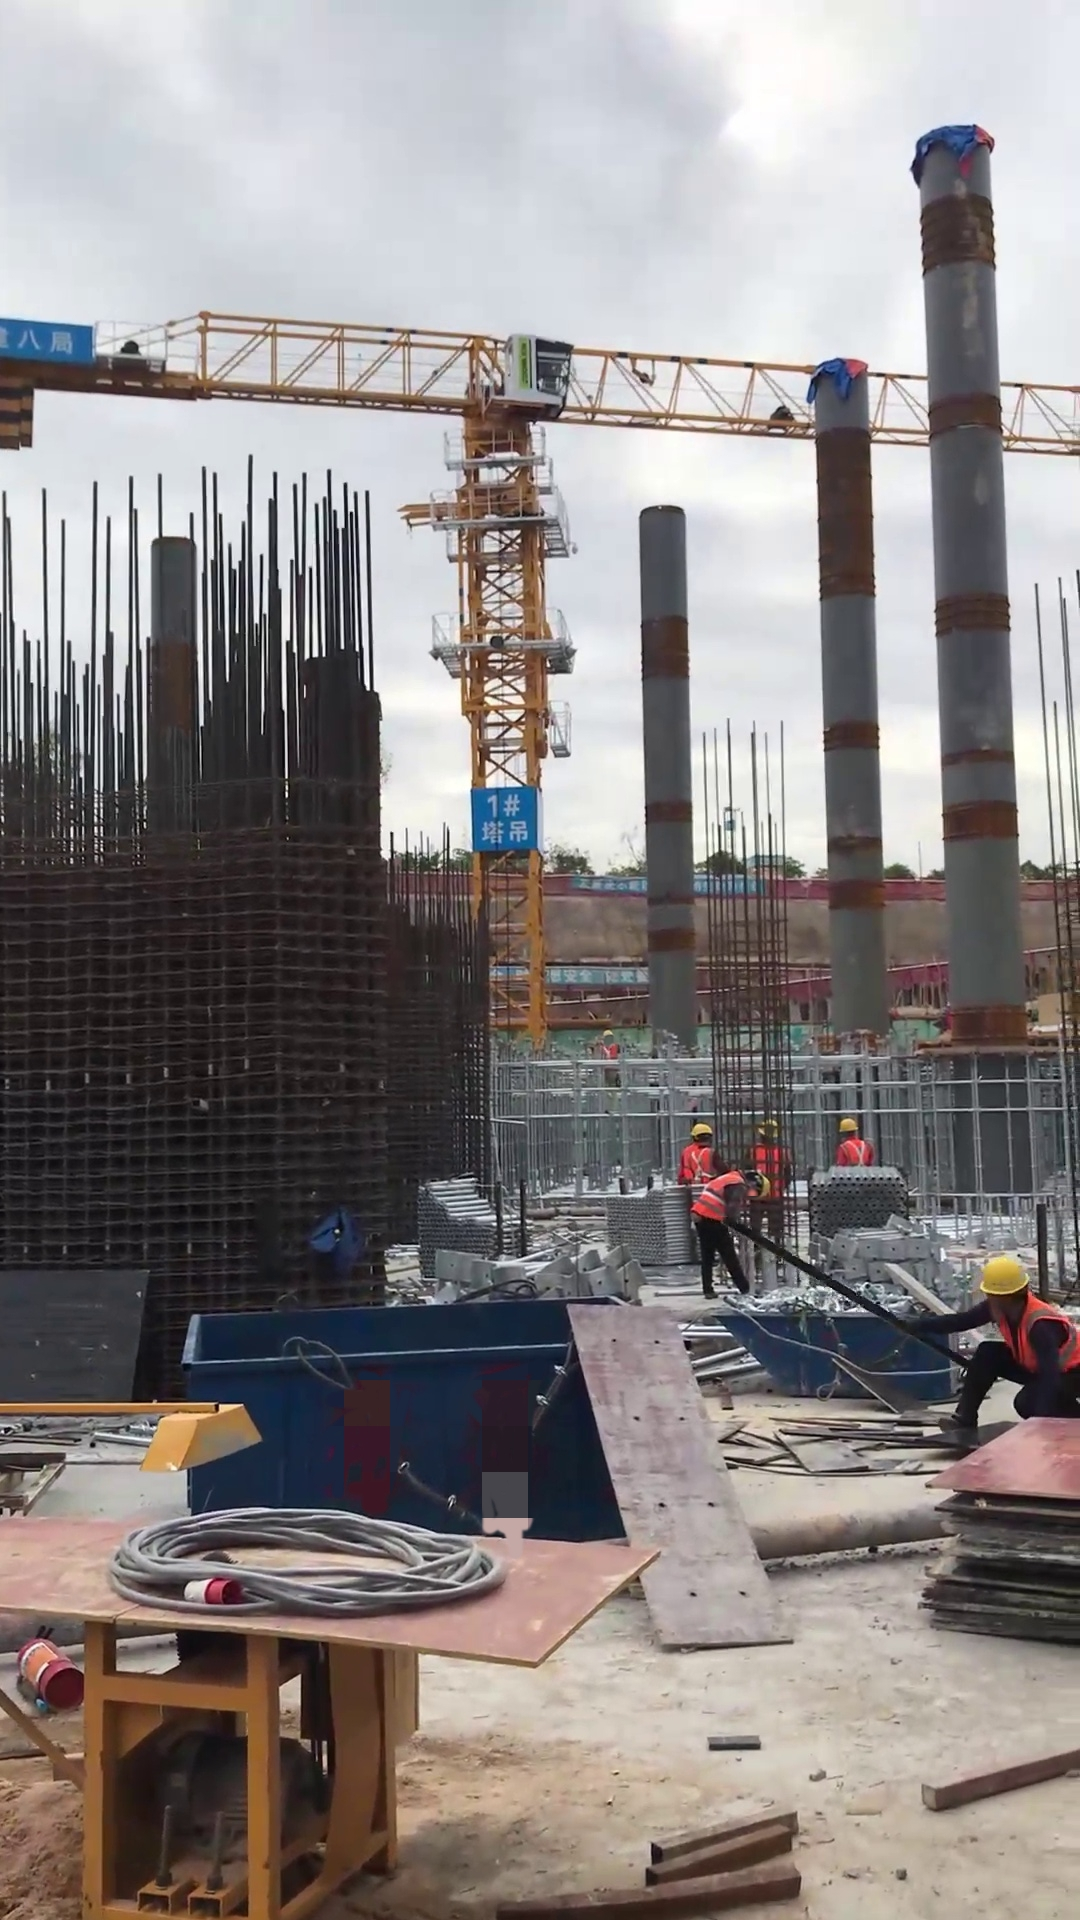board: (922, 1416, 1080, 1645)
cutter: (1, 1399, 669, 1920)
helmet: (978, 1253, 1030, 1297), (749, 1170, 772, 1203), (756, 1119, 781, 1142), (690, 1120, 713, 1140), (838, 1118, 858, 1134), (601, 1030, 613, 1039)
hopper: (178, 1291, 633, 1543), (710, 1301, 970, 1399)
person: (893, 1253, 1080, 1433), (687, 1166, 773, 1303), (742, 1118, 794, 1273), (689, 1118, 729, 1187), (833, 1114, 874, 1166), (599, 1028, 622, 1060)
scaffold: (415, 1171, 533, 1280), (603, 1185, 701, 1268), (806, 1164, 911, 1234)
slogan: (573, 872, 764, 898), (1, 315, 92, 363), (474, 784, 537, 850), (486, 962, 651, 987)
vest: (996, 1293, 1046, 1375), (689, 1168, 744, 1225), (750, 1143, 788, 1201), (688, 1144, 716, 1185), (839, 1137, 871, 1167), (679, 1142, 698, 1184), (598, 1039, 619, 1061)
